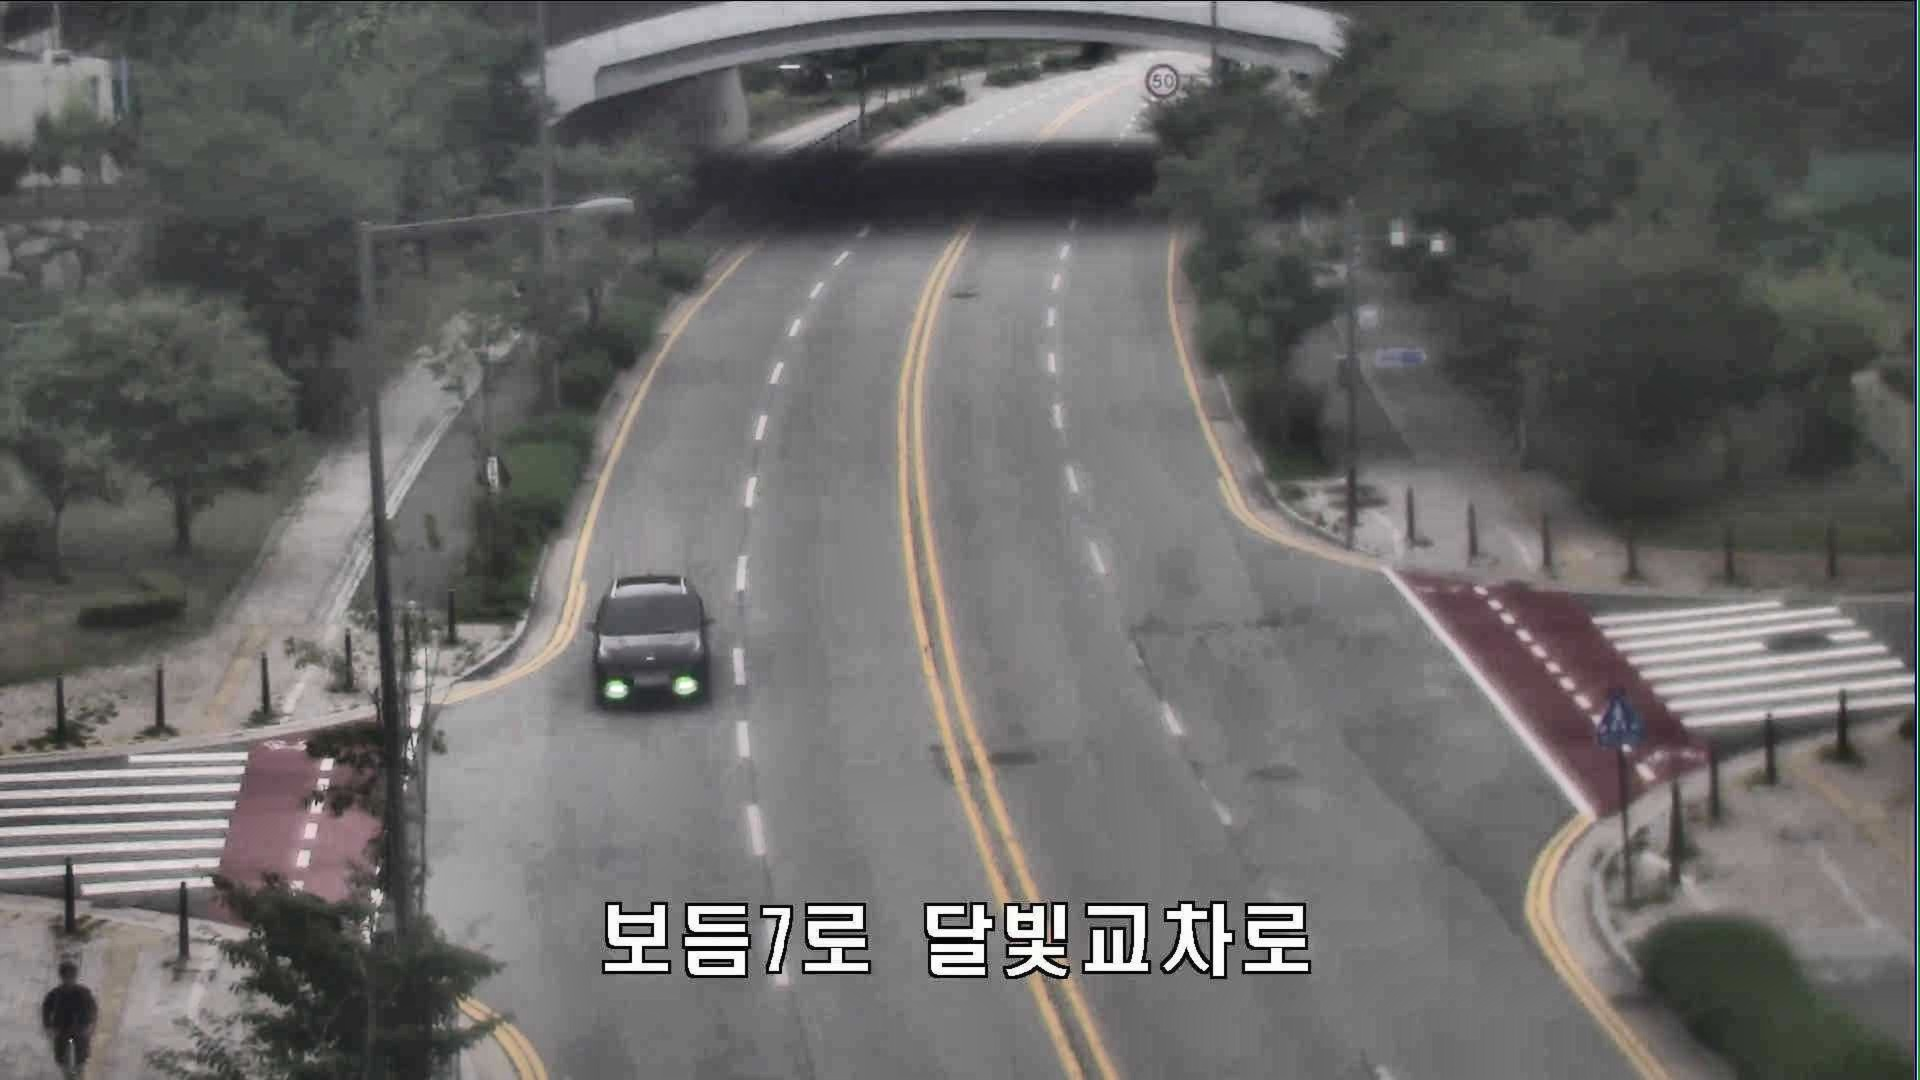sidewalk: (36, 955, 108, 1079)
